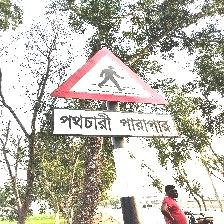Pedestrian-crossing: (49, 46, 178, 141)
